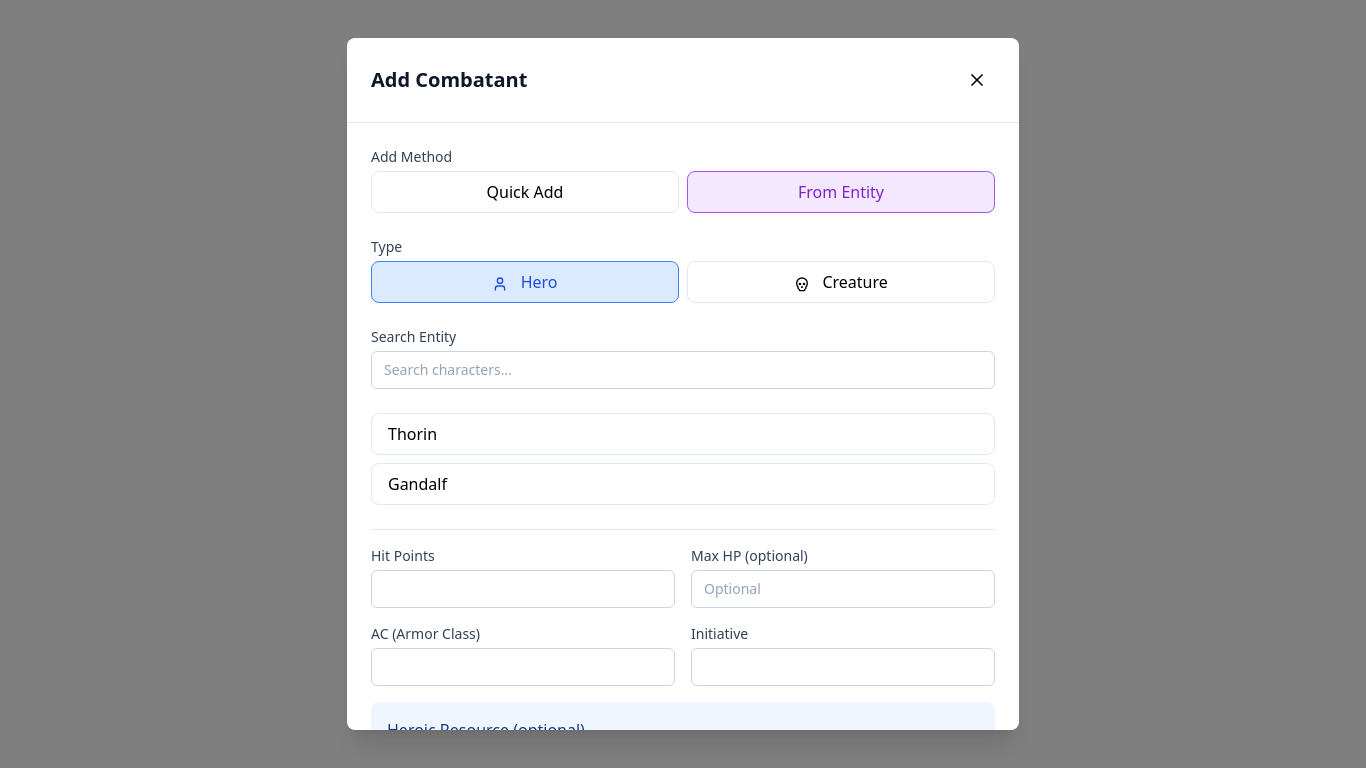
Test: AddCombatantModal - Entity Selection › should filter entities based on search input
In the field labelled "Search Entity": [683, 370] box 371,351 -> 995,389, type "Thorin"
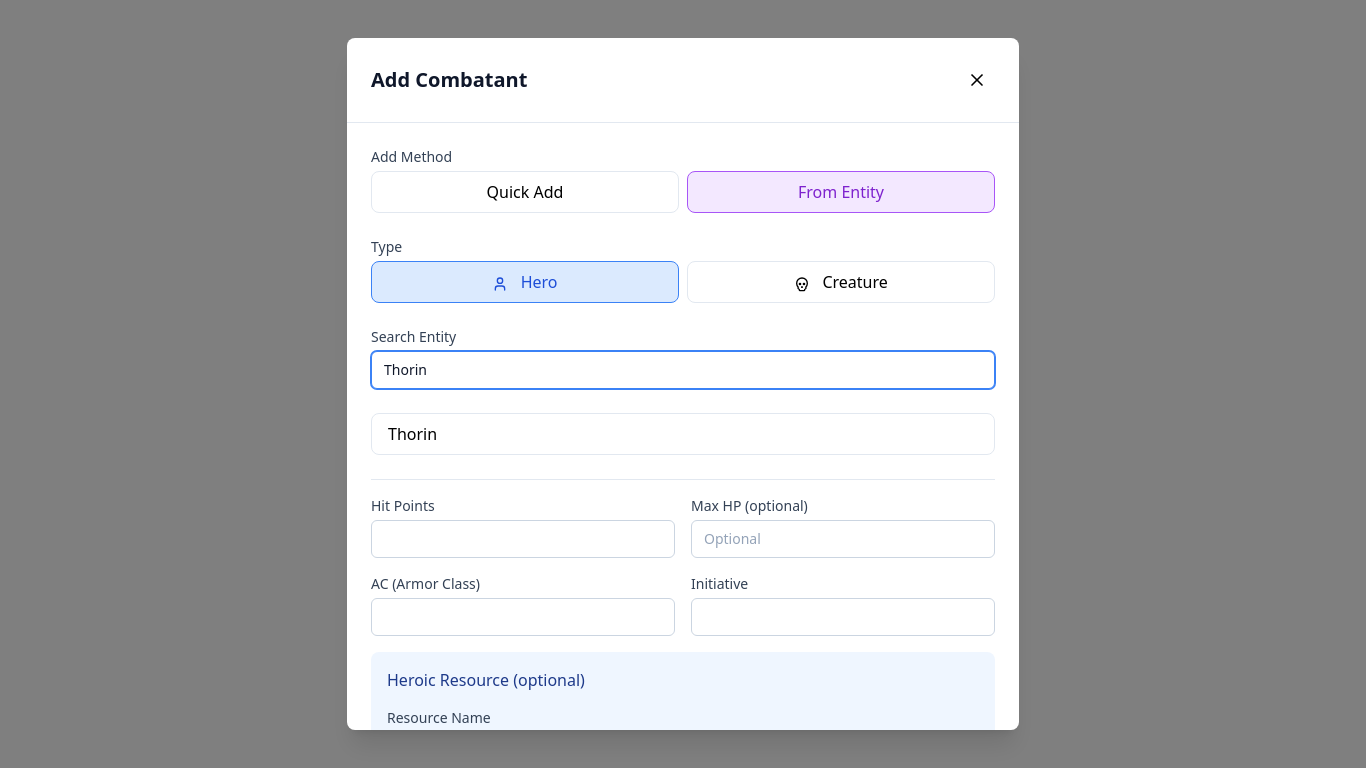
Expected: the button "Thorin" is shown, 371,413 -> 995,455
Now the button "Gandalf" is gone
